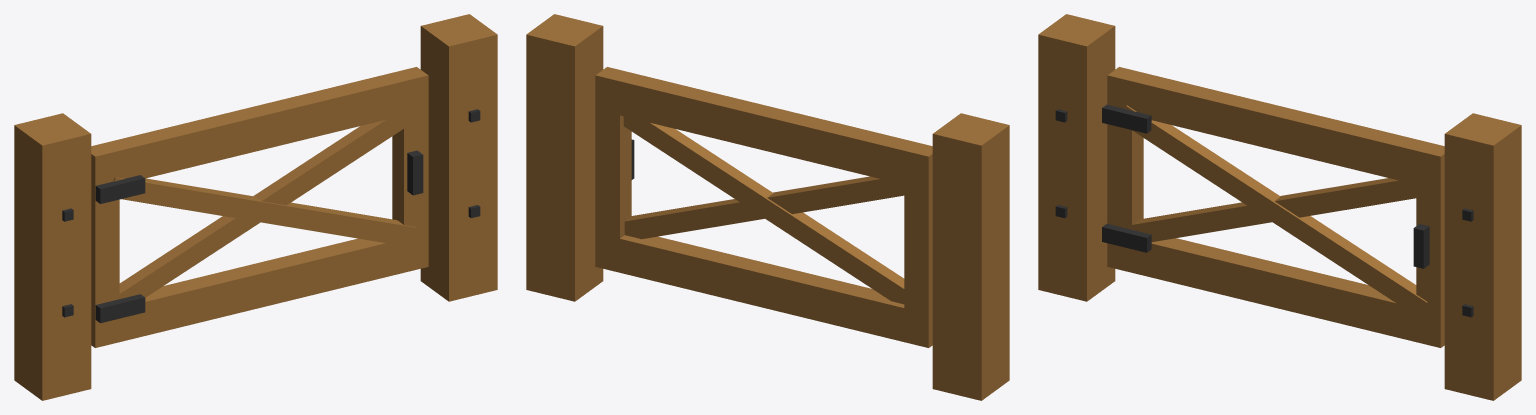
The model's file is Fence_Gate_2m.fbx.
3 views of the same model, side by side, from view 1: azimuth 30°, elevation 25°; view 2: azimuth 150°, elevation 25°; view 3: azimuth 330°, elevation 25° (orthographic).
Visible parts, largest first — view 1: Gate2_Leaf_0, Gate2_Post_0, Gate2_Post_2; view 2: Gate2_Leaf_0, Gate2_Post_0, Gate2_Post_2; view 3: Gate2_Leaf_0, Gate2_Post_2, Gate2_Post_0.
Part boxes in pixels (bbox=[...]): Gate2_Leaf_0: bbox=[91, 67, 428, 347]; Gate2_Post_0: bbox=[14, 113, 91, 400]; Gate2_Post_2: bbox=[420, 14, 497, 301]; Gate2_Leaf_0: bbox=[595, 67, 932, 347]; Gate2_Post_0: bbox=[932, 113, 1009, 400]; Gate2_Post_2: bbox=[526, 14, 603, 301]; Gate2_Leaf_0: bbox=[1102, 67, 1444, 347]; Gate2_Post_2: bbox=[1444, 113, 1521, 400]; Gate2_Post_0: bbox=[1038, 14, 1115, 301].
Bounding box in the file's own units: 2.24 × 1.2 × 0.2595.
